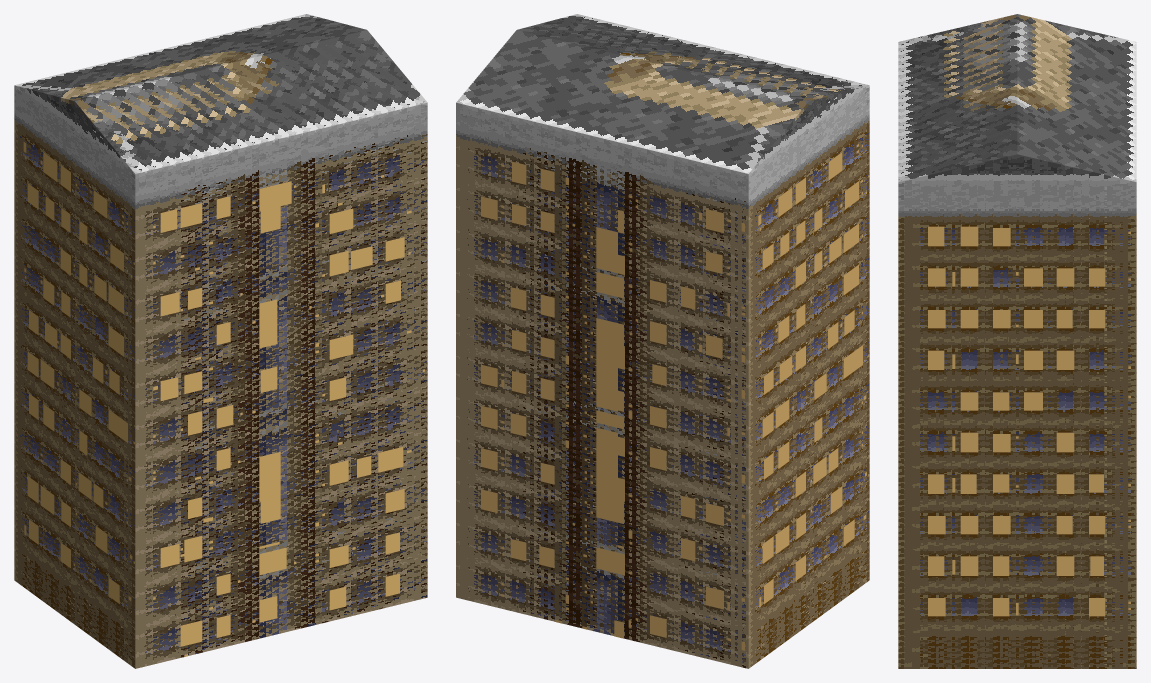
Rendered from dum_4a_vysoky.glb.
3 renders of one model, left to right at view 1: azimuth 30°, elevation 25°; view 2: azimuth 150°, elevation 25°; view 3: azimuth 270°, elevation 25°, orthographic.
Visible parts, largest first — view 1: object 1, noc; view 2: object 1, noc; view 3: object 1, noc.
Part boxes in pixels (left/top/right/bottom): object 1: left=14, top=14, right=427, bottom=668; noc: left=23, top=142, right=424, bottom=656; object 1: left=456, top=14, right=869, bottom=668; noc: left=481, top=144, right=869, bottom=650; object 1: left=898, top=14, right=1136, bottom=668; noc: left=928, top=226, right=1130, bottom=616.
Bounding box in the file's own units: 19.22 × 32.81 × 13.8.
Materials: 1 (1 with a texture image).
